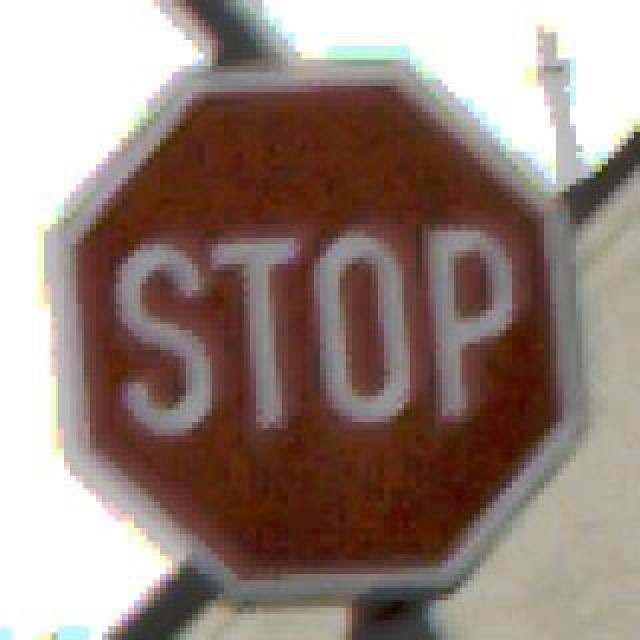stop: (32, 54, 582, 594)
